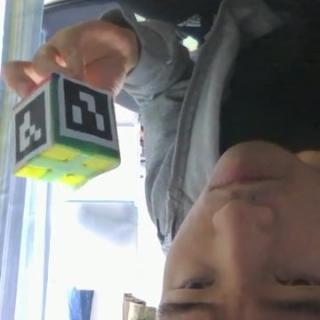armor: (59, 77, 115, 148), (12, 80, 52, 170)
robot: (11, 73, 120, 188)
